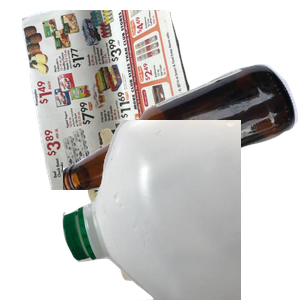glass: (63, 62, 300, 242)
paper: (19, 10, 223, 190)
plastic: (60, 120, 300, 300)
trash: (84, 126, 291, 300)
